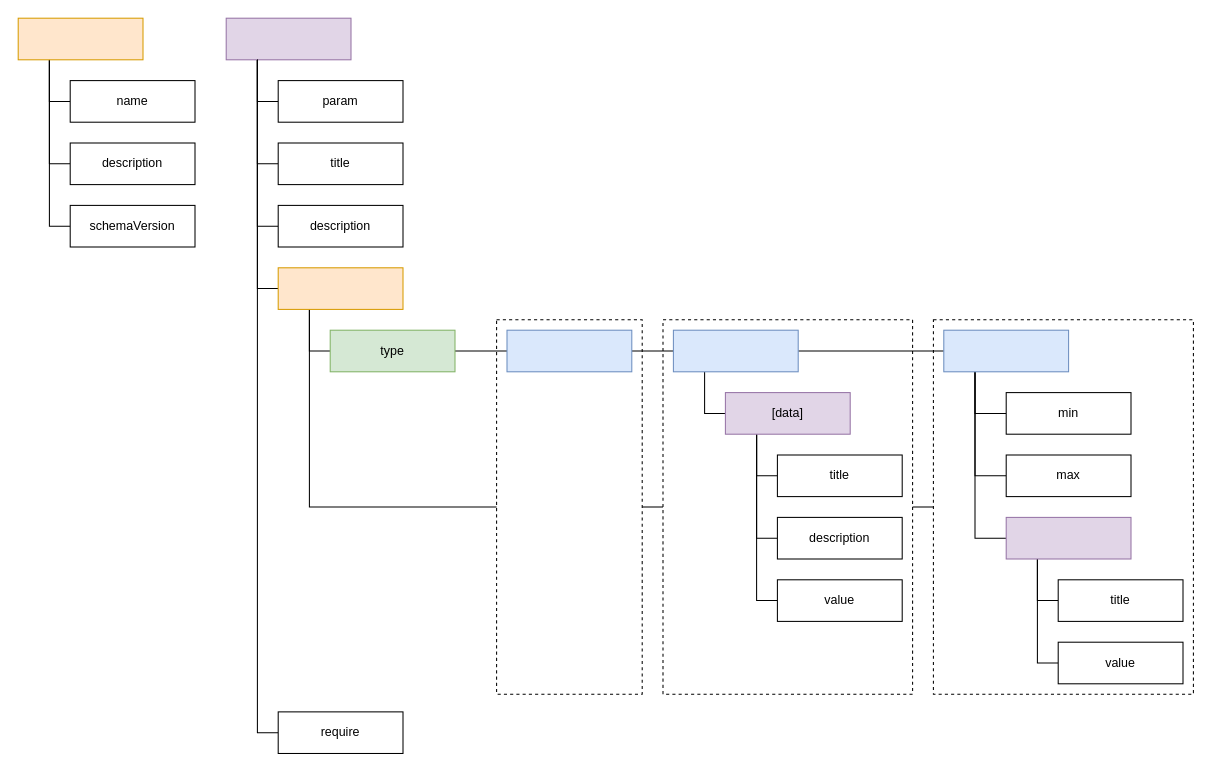
The diagram is 1212 pixels wide and 772 high, and some of its shapes have lost their labels. Each missing label, with the centre of its shape:
[predefined]: the point at 1068,537
[schema]: the point at 288,38
bool: the point at 569,350
enum: the point at 735,350
float: the point at 1006,350
{meta}: the point at 80,38
{spec}: the point at 340,288
